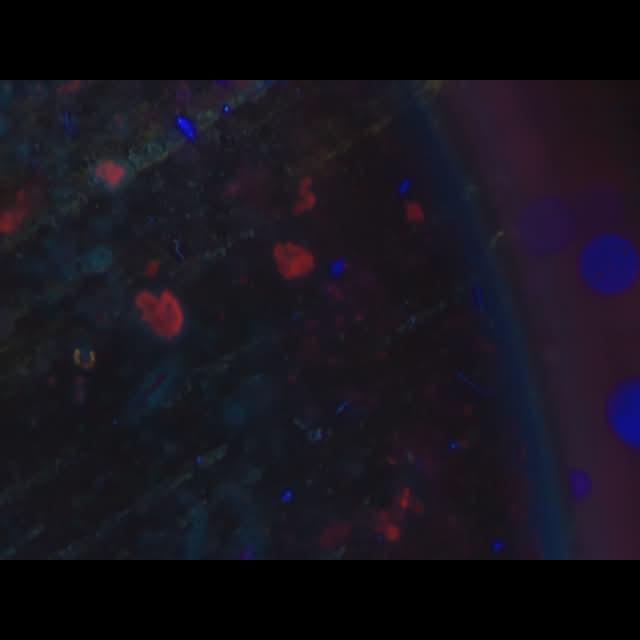Fragment: (136, 288, 184, 336)
